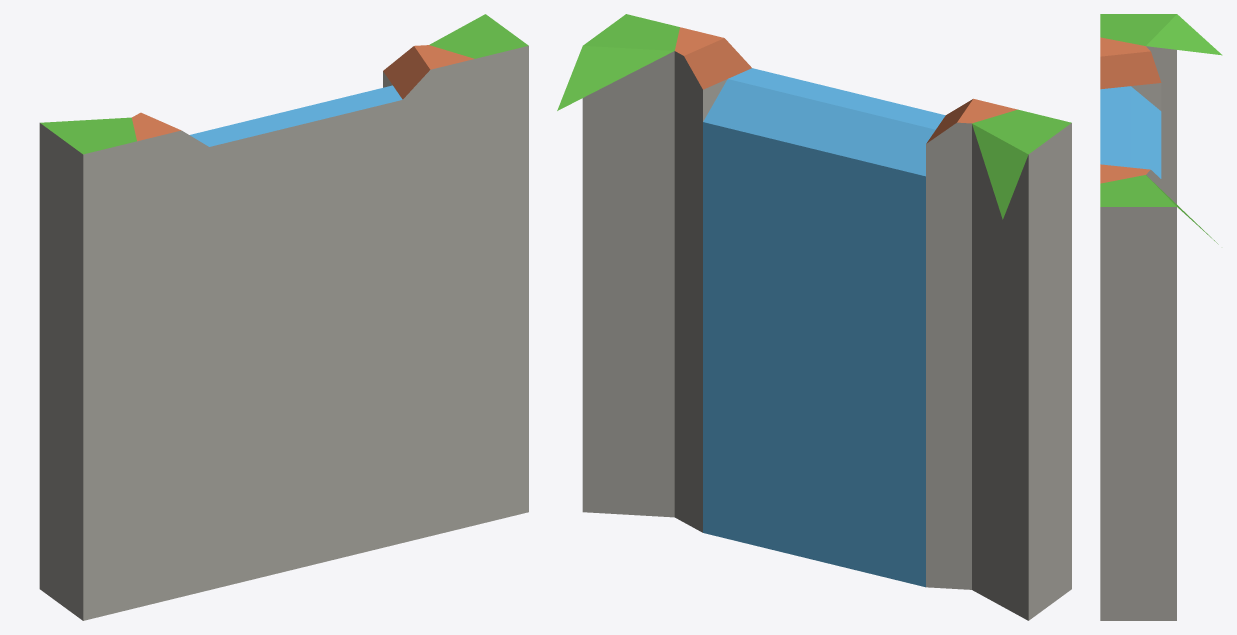
The model's file is cliff_waterfallTop_stone.glb.
The picture shows the model from 3 angles, left to right: view 1: azimuth 30°, elevation 25°; view 2: azimuth 150°, elevation 25°; view 3: azimuth 270°, elevation 25°; orthographic projection. The views are drawn at different scales.
Visible parts, largest first — view 1: cliff_waterfallTop_stone; view 2: cliff_waterfallTop_stone; view 3: cliff_waterfallTop_stone.
Part boxes in pixels (x1,y1,x2,y2): cliff_waterfallTop_stone: (39,14,528,620); cliff_waterfallTop_stone: (557,14,1071,620); cliff_waterfallTop_stone: (1100,14,1222,620).
Size of the model in its own units: 1 by 1 by 0.2685.
